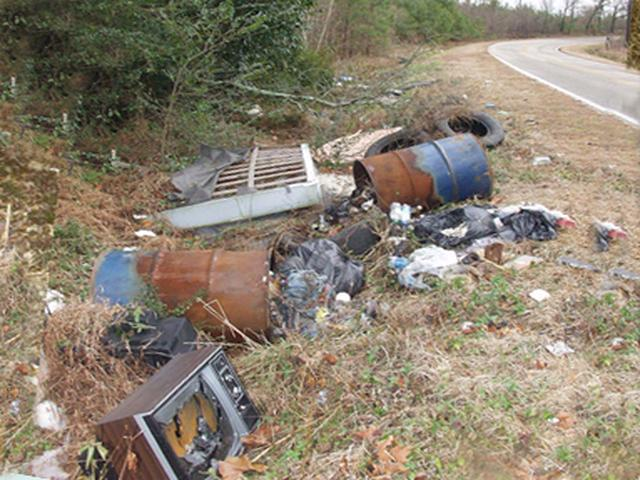garbage: (285, 226, 479, 279)
